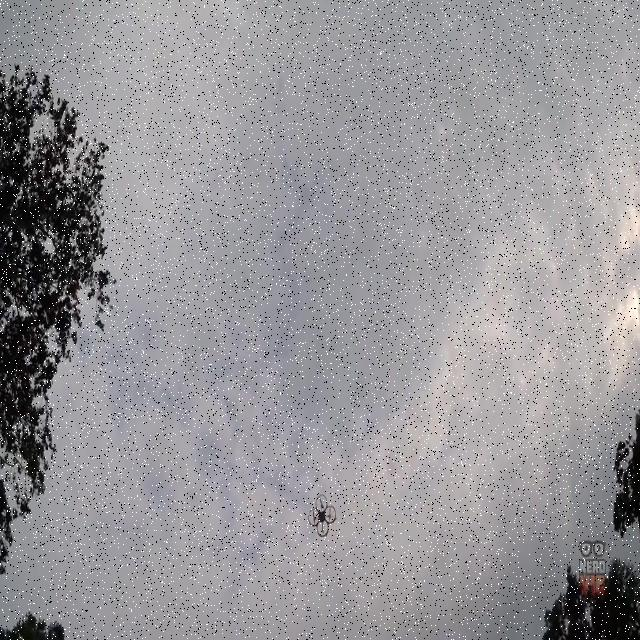UAV: (308, 494, 337, 538)
